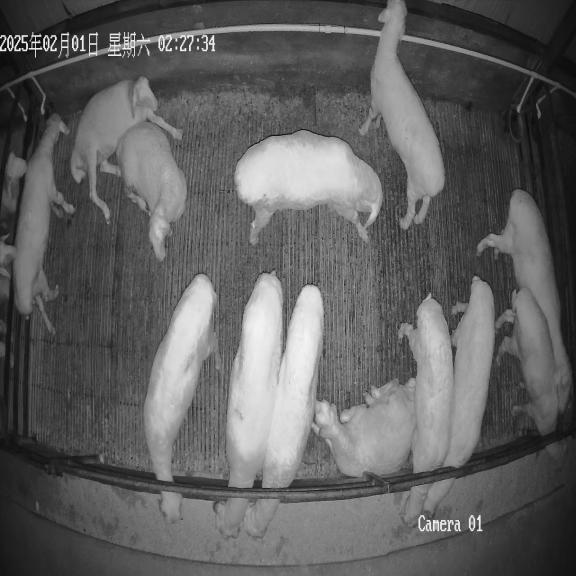eating: (243, 284, 324, 538), (144, 274, 221, 522), (213, 270, 283, 538), (423, 276, 495, 516), (495, 288, 567, 464), (398, 294, 453, 523), (248, 394, 250, 400)
lying: (70, 76, 182, 222), (314, 379, 415, 477), (116, 121, 187, 260)
stand: (477, 189, 572, 411), (360, 0, 445, 229), (234, 130, 382, 244), (10, 113, 74, 335)
